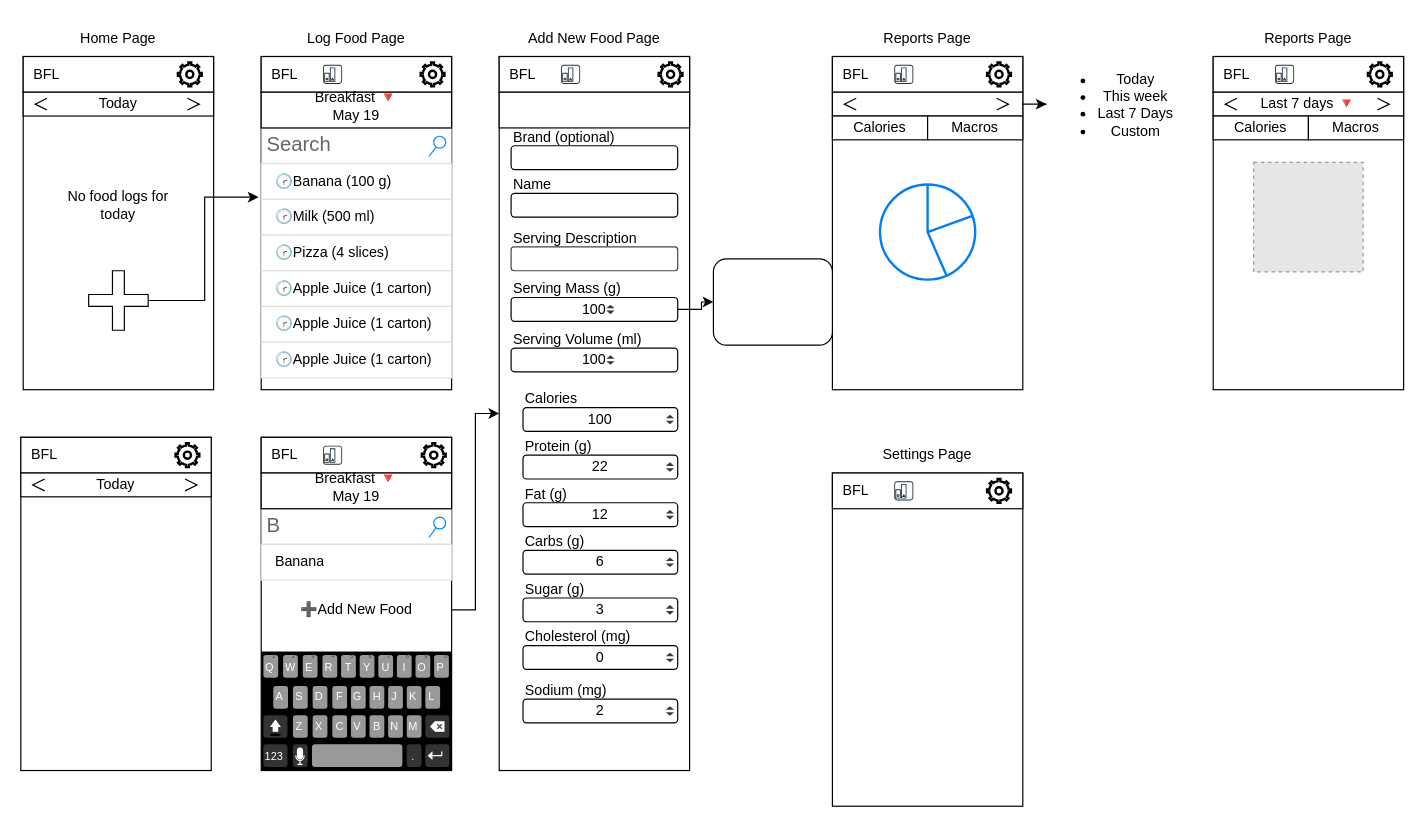
Some shapes in this 1424 by 827 pixel diagram are drawn without their labels. Grey dashed boxes stand in for pictures. Each missing label, with the box of its shape:
< Add New Food: (498, 91, 690, 128)
E.g 1 Bar, 1 Carton: (510, 246, 678, 271)
if changed the nutrients should too: (712, 258, 832, 345)
Show NavBarOnBottom?: (831, 472, 1023, 806)
Today 🔻: (831, 91, 1023, 116)
